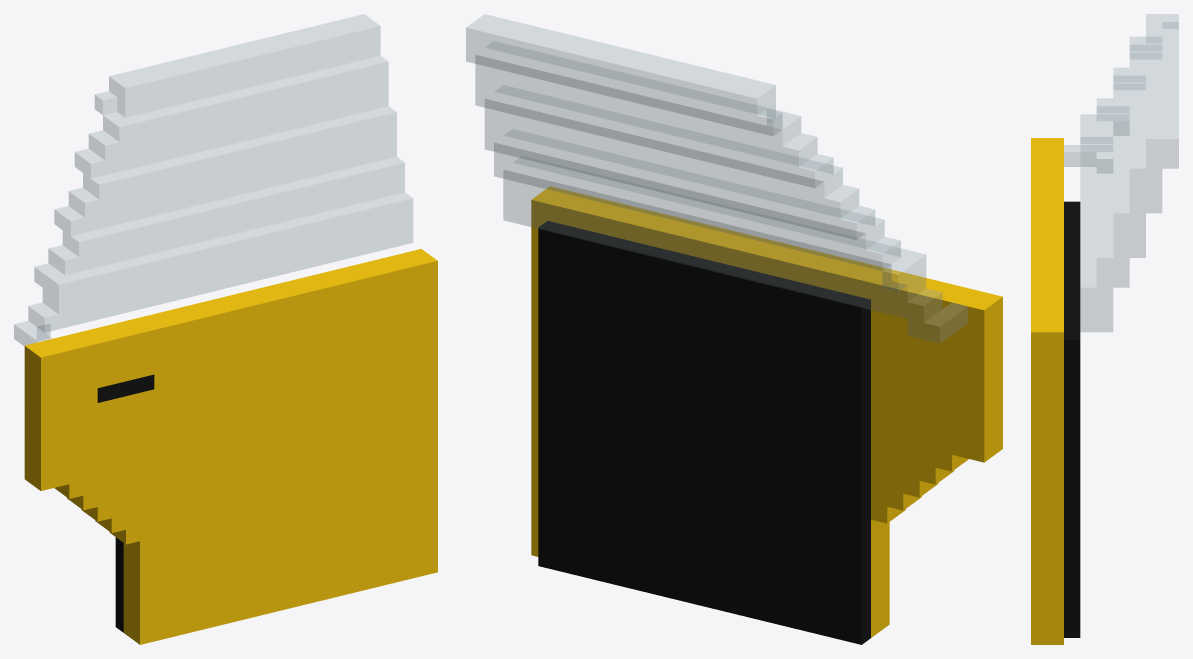
Rendered from taxi_rear_door.glb.
3 views of the same model, side by side, from view 1: azimuth 30°, elevation 25°; view 2: azimuth 150°, elevation 25°; view 3: azimuth 270°, elevation 25° (orthographic). The views are drawn at different scales.
Parts seen in each view (by area): view 1: body:compound; view 2: body:compound; view 3: body:compound.
Part boxes in pixels (left/top/right/bottom): body:compound: left=14, top=14, right=437, bottom=644; body:compound: left=466, top=14, right=1002, bottom=644; body:compound: left=1031, top=14, right=1178, bottom=644.
Bounding box in the file's own units: 0.875 × 1.06 × 0.2812.
